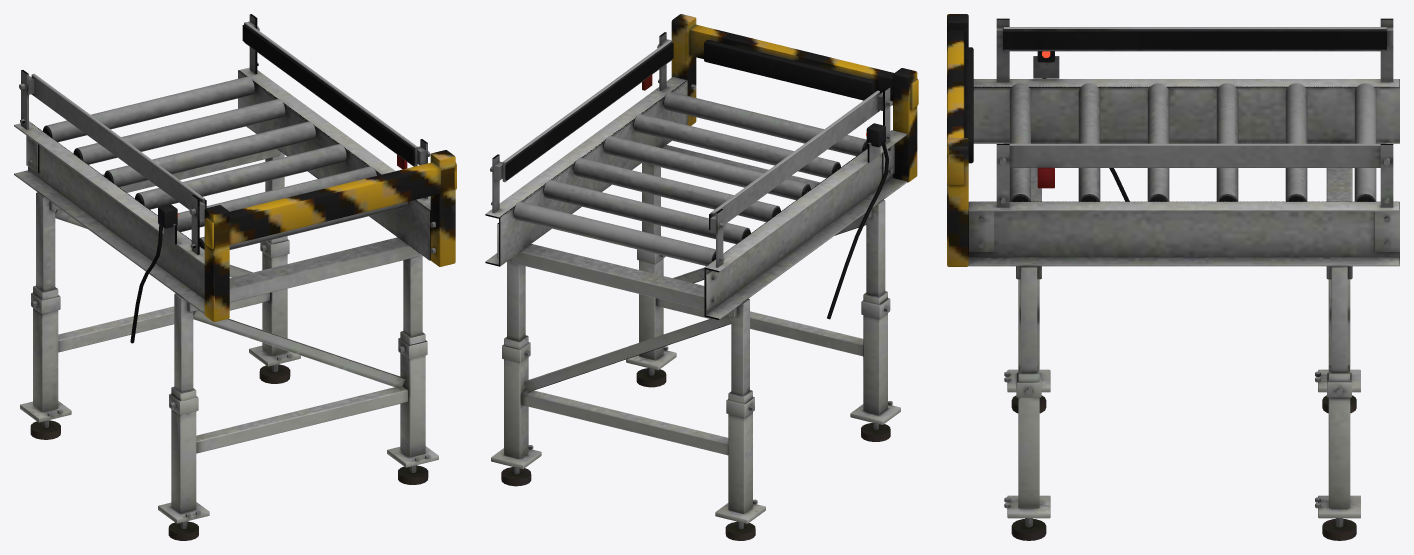
The model's file is conveyor-end-stop-v1-lod0.glb.
3 views of the same model, side by side, from view 1: azimuth 30°, elevation 25°; view 2: azimuth 150°, elevation 25°; view 3: azimuth 270°, elevation 25° (orthographic). The views are drawn at different scales.
Visible parts, largest first — view 1: module_end_mesh, end_roller_02_mesh, end_roller_03_mesh, end_roller_01_mesh, end_roller_04_mesh, end_roller_05_mesh, end_roller_06_mesh; view 2: module_end_mesh, end_roller_01_mesh, end_roller_02_mesh, end_roller_05_mesh, end_roller_04_mesh, end_roller_03_mesh, end_roller_06_mesh; view 3: module_end_mesh, end_roller_01_mesh, end_roller_02_mesh, end_roller_03_mesh, end_roller_04_mesh, end_roller_05_mesh, end_roller_06_mesh.
Boxes of the visible parts, bbox=[...] form: module_end_mesh: bbox=[14, 14, 456, 540]; end_roller_02_mesh: bbox=[73, 99, 285, 164]; end_roller_03_mesh: bbox=[104, 121, 316, 187]; end_roller_01_mesh: bbox=[43, 76, 254, 142]; end_roller_04_mesh: bbox=[135, 144, 346, 209]; end_roller_05_mesh: bbox=[177, 166, 377, 231]; end_roller_06_mesh: bbox=[199, 201, 408, 249]; module_end_mesh: bbox=[485, 14, 918, 540]; end_roller_01_mesh: bbox=[513, 201, 715, 265]; end_roller_02_mesh: bbox=[543, 179, 750, 243]; end_roller_05_mesh: bbox=[633, 113, 840, 178]; end_roller_04_mesh: bbox=[603, 135, 810, 199]; end_roller_03_mesh: bbox=[573, 157, 780, 221]; end_roller_06_mesh: bbox=[663, 91, 867, 156]; module_end_mesh: bbox=[947, 14, 1399, 540]; end_roller_01_mesh: bbox=[1354, 83, 1376, 201]; end_roller_02_mesh: bbox=[1285, 83, 1307, 201]; end_roller_03_mesh: bbox=[1216, 83, 1238, 201]; end_roller_04_mesh: bbox=[1147, 83, 1169, 201]; end_roller_05_mesh: bbox=[1078, 83, 1100, 201]; end_roller_06_mesh: bbox=[1009, 83, 1030, 201].
Bounding box in the file's own units: 0.7994 × 1 × 1.05.
2 materials, 1 textured.
